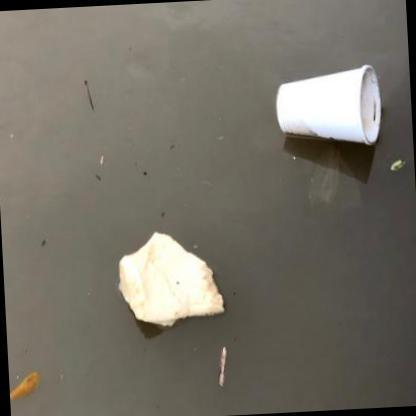foam: (117, 232, 225, 326)
